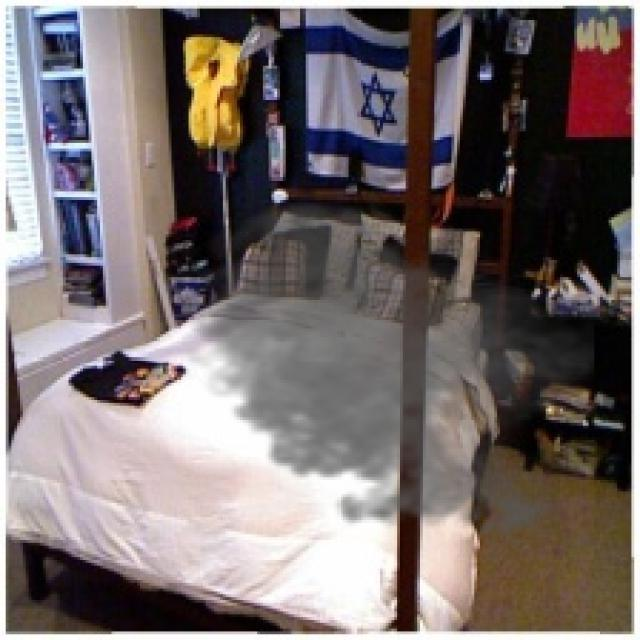Smoke: (172, 194, 594, 549)
